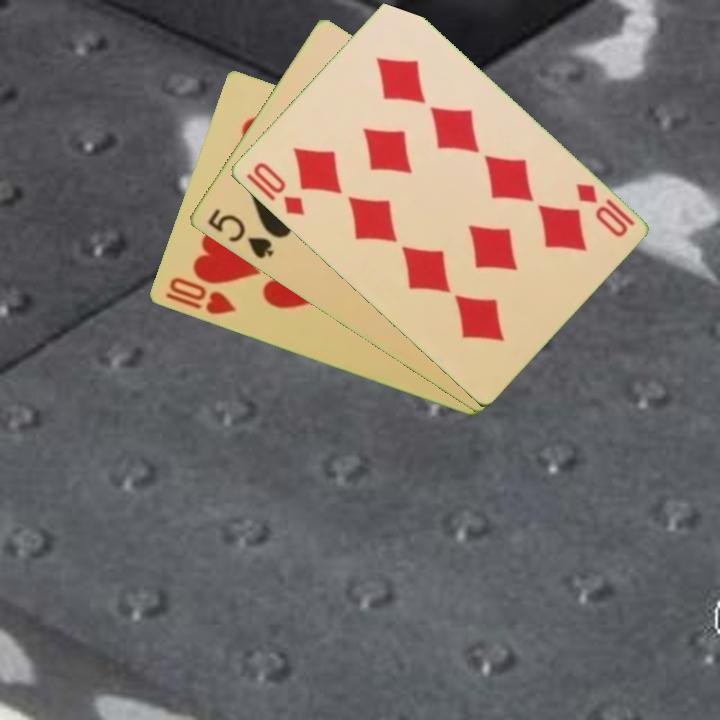10d: (571, 179, 638, 240), (249, 159, 307, 219)
10h: (160, 274, 239, 318)
5s: (203, 204, 276, 262)
